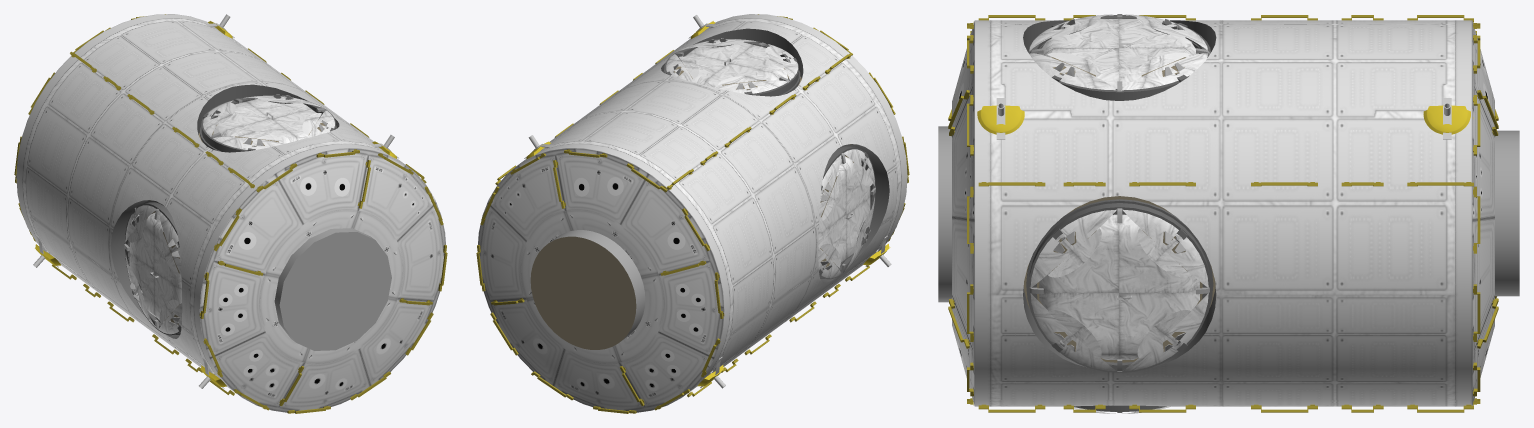
3 views of the same model, side by side, from view 1: azimuth 30°, elevation 25°; view 2: azimuth 150°, elevation 25°; view 3: azimuth 270°, elevation 25° (orthographic). The views are drawn at different scales.
Parts seen in each view (by area): view 1: NODE3; view 2: NODE3; view 3: NODE3.
Boxes of the visible parts, box(x1,y1,x2,y2) form: NODE3: box(14, 14, 447, 413); NODE3: box(476, 14, 909, 413); NODE3: box(938, 14, 1519, 413).
Bounding box in the file's own units: 4.45 × 4.45 × 6.68.
10 materials, 4 textured.
